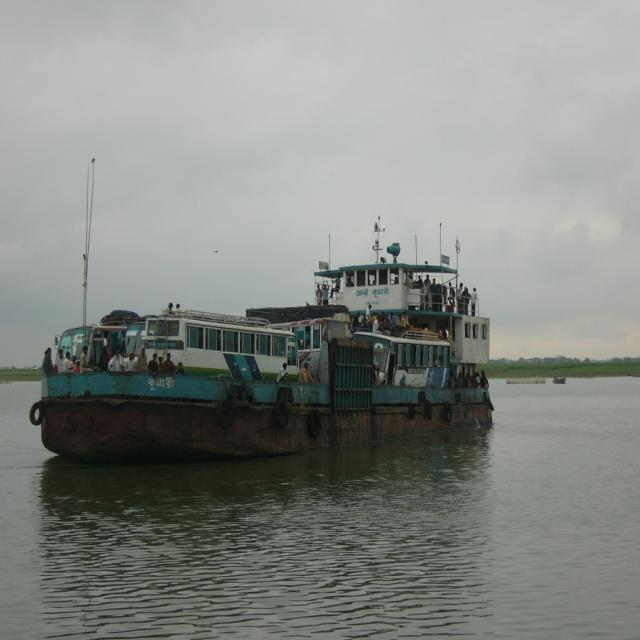cargoship: (19, 238, 490, 453)
